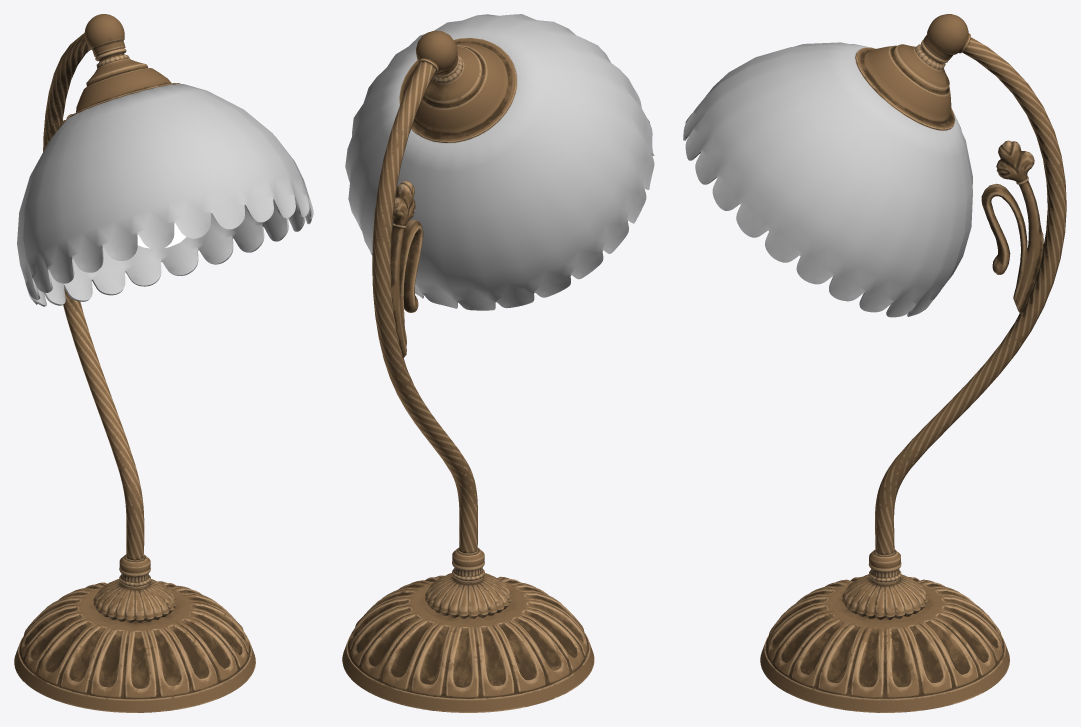
3 views of the same model, side by side, from view 1: azimuth 30°, elevation 25°; view 2: azimuth 150°, elevation 25°; view 3: azimuth 270°, elevation 25° (orthographic). The views are drawn at different scales.
Visible parts, largest first — view 1: Lamp_1_low1; view 2: Lamp_1_low1; view 3: Lamp_1_low1.
Part boxes in pixels (bbox=[...]): Lamp_1_low1: bbox=[14, 14, 313, 712]; Lamp_1_low1: bbox=[342, 14, 654, 712]; Lamp_1_low1: bbox=[683, 14, 1066, 712].
Bounding box in the file's own units: 0.2486 × 0.5783 × 0.312.
3 materials, 2 textured.
